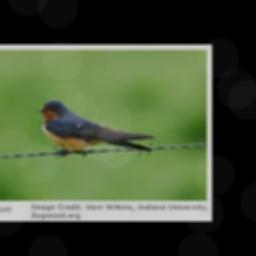Swallow: (36, 99, 154, 152)
